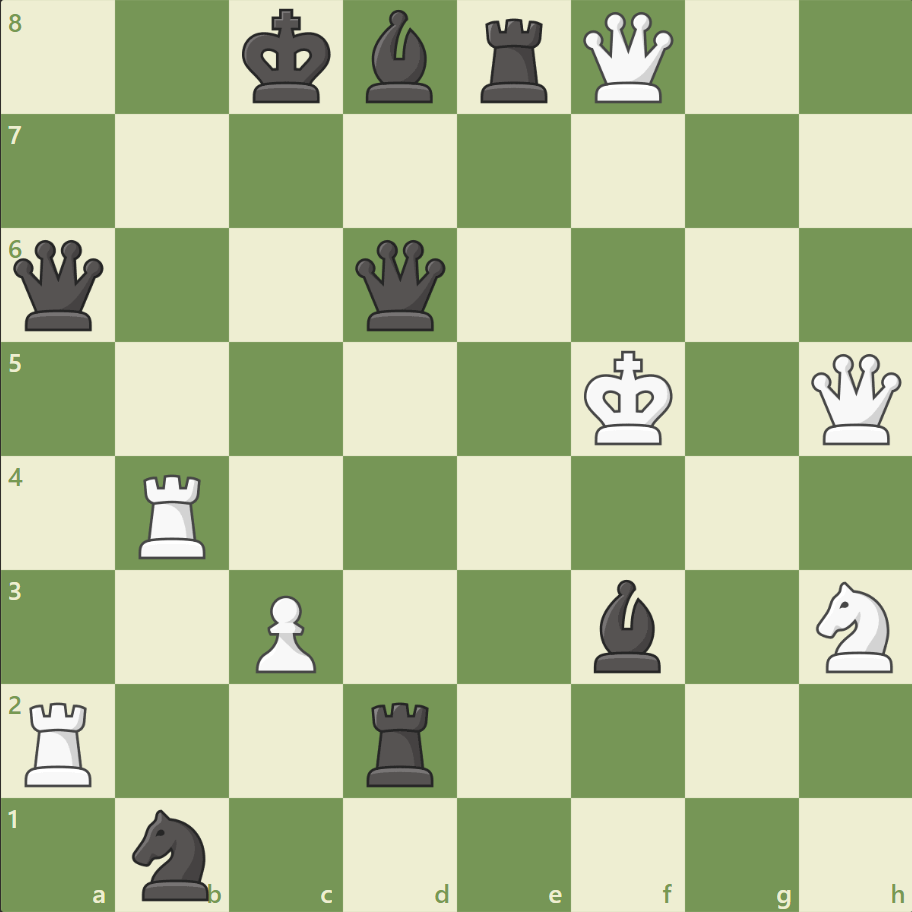K: (579, 344, 679, 452)
N: (806, 575, 903, 677)
P: (247, 586, 322, 677)
Q: (805, 349, 904, 449), (578, 9, 677, 108)
R: (19, 693, 102, 790), (133, 466, 215, 563)
b: (358, 6, 442, 109), (585, 574, 669, 676)
k: (238, 4, 338, 112)
n: (124, 802, 222, 904)
q: (10, 236, 109, 335), (351, 236, 450, 335)
r: (473, 12, 556, 109), (360, 693, 442, 790)
